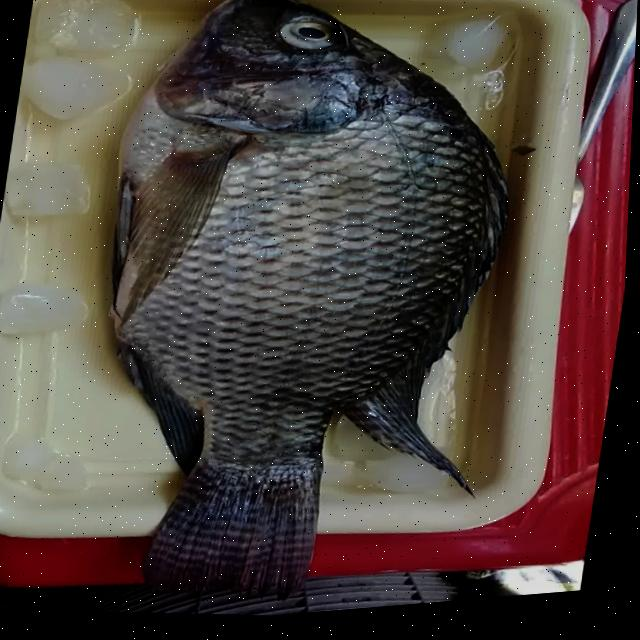Fresh: (47, 62, 548, 635), (250, 0, 380, 78)
